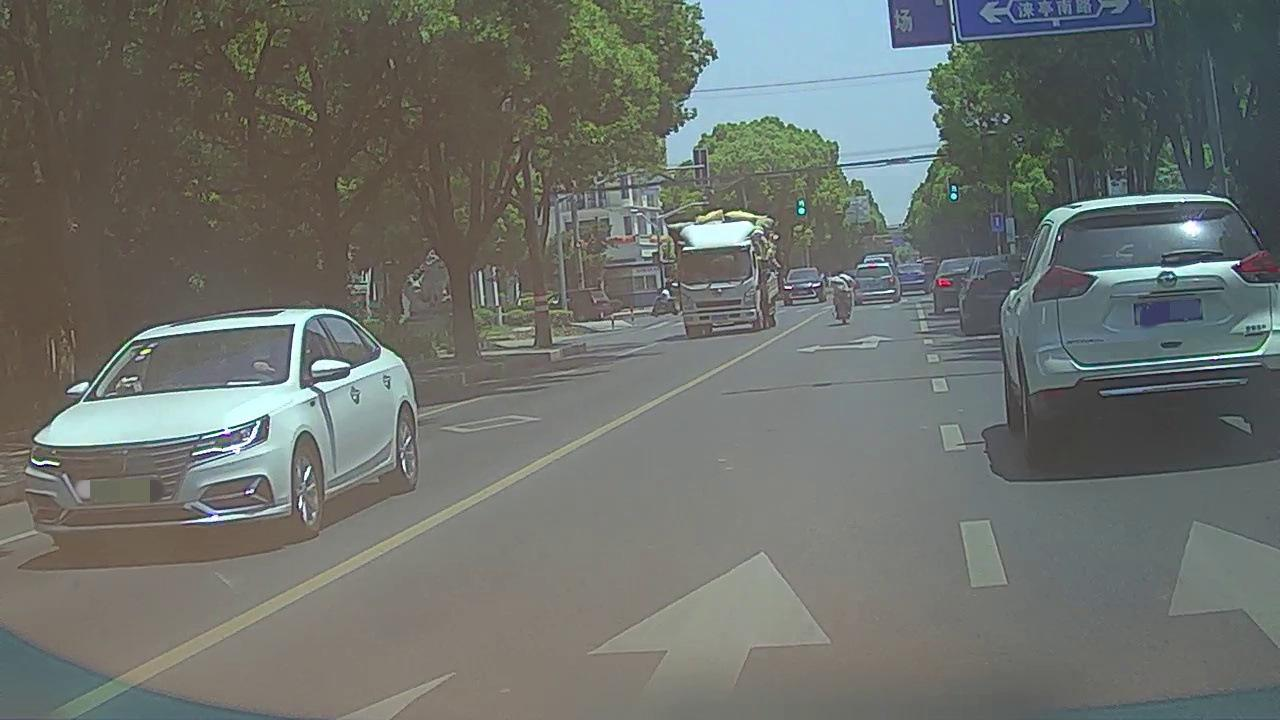traffic_light: (948, 178, 959, 202), (795, 198, 807, 217)
